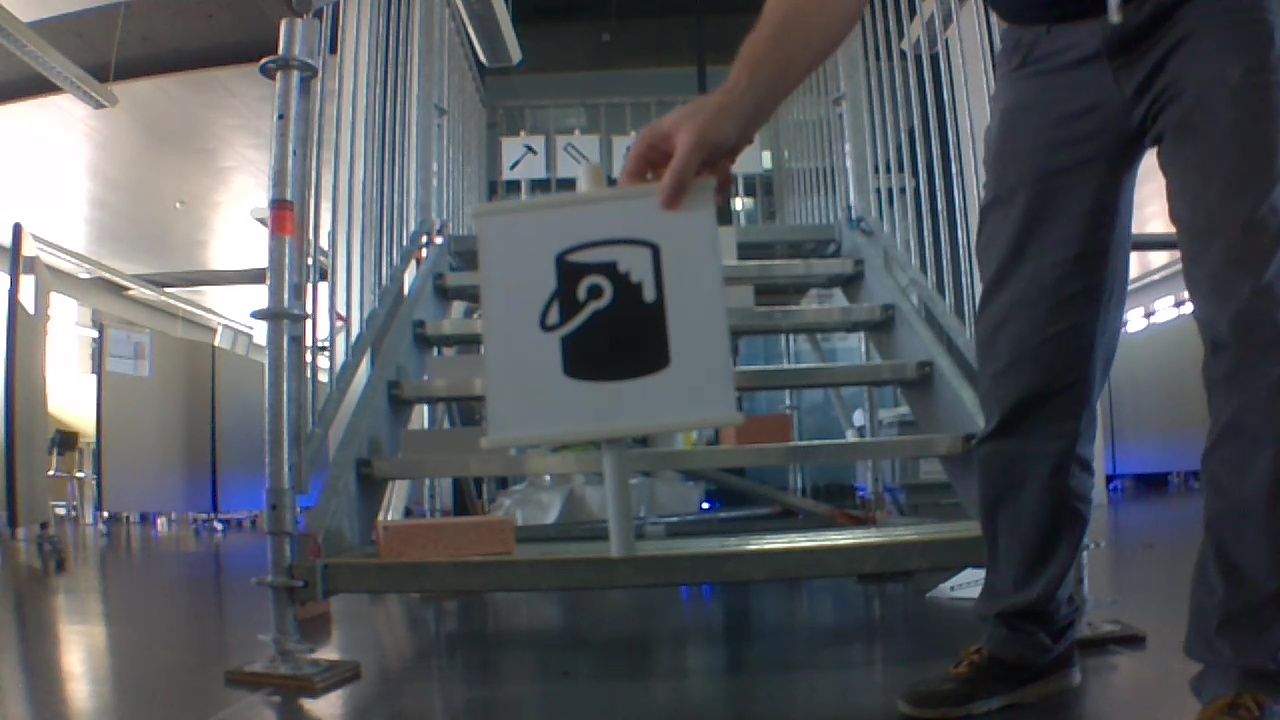brick: (374, 513, 524, 563), (400, 425, 509, 451), (724, 413, 792, 446), (714, 226, 736, 262), (721, 287, 755, 305)
bucket: (543, 226, 675, 394)
edge: (315, 529, 987, 602)
hammer: (509, 142, 537, 174)
